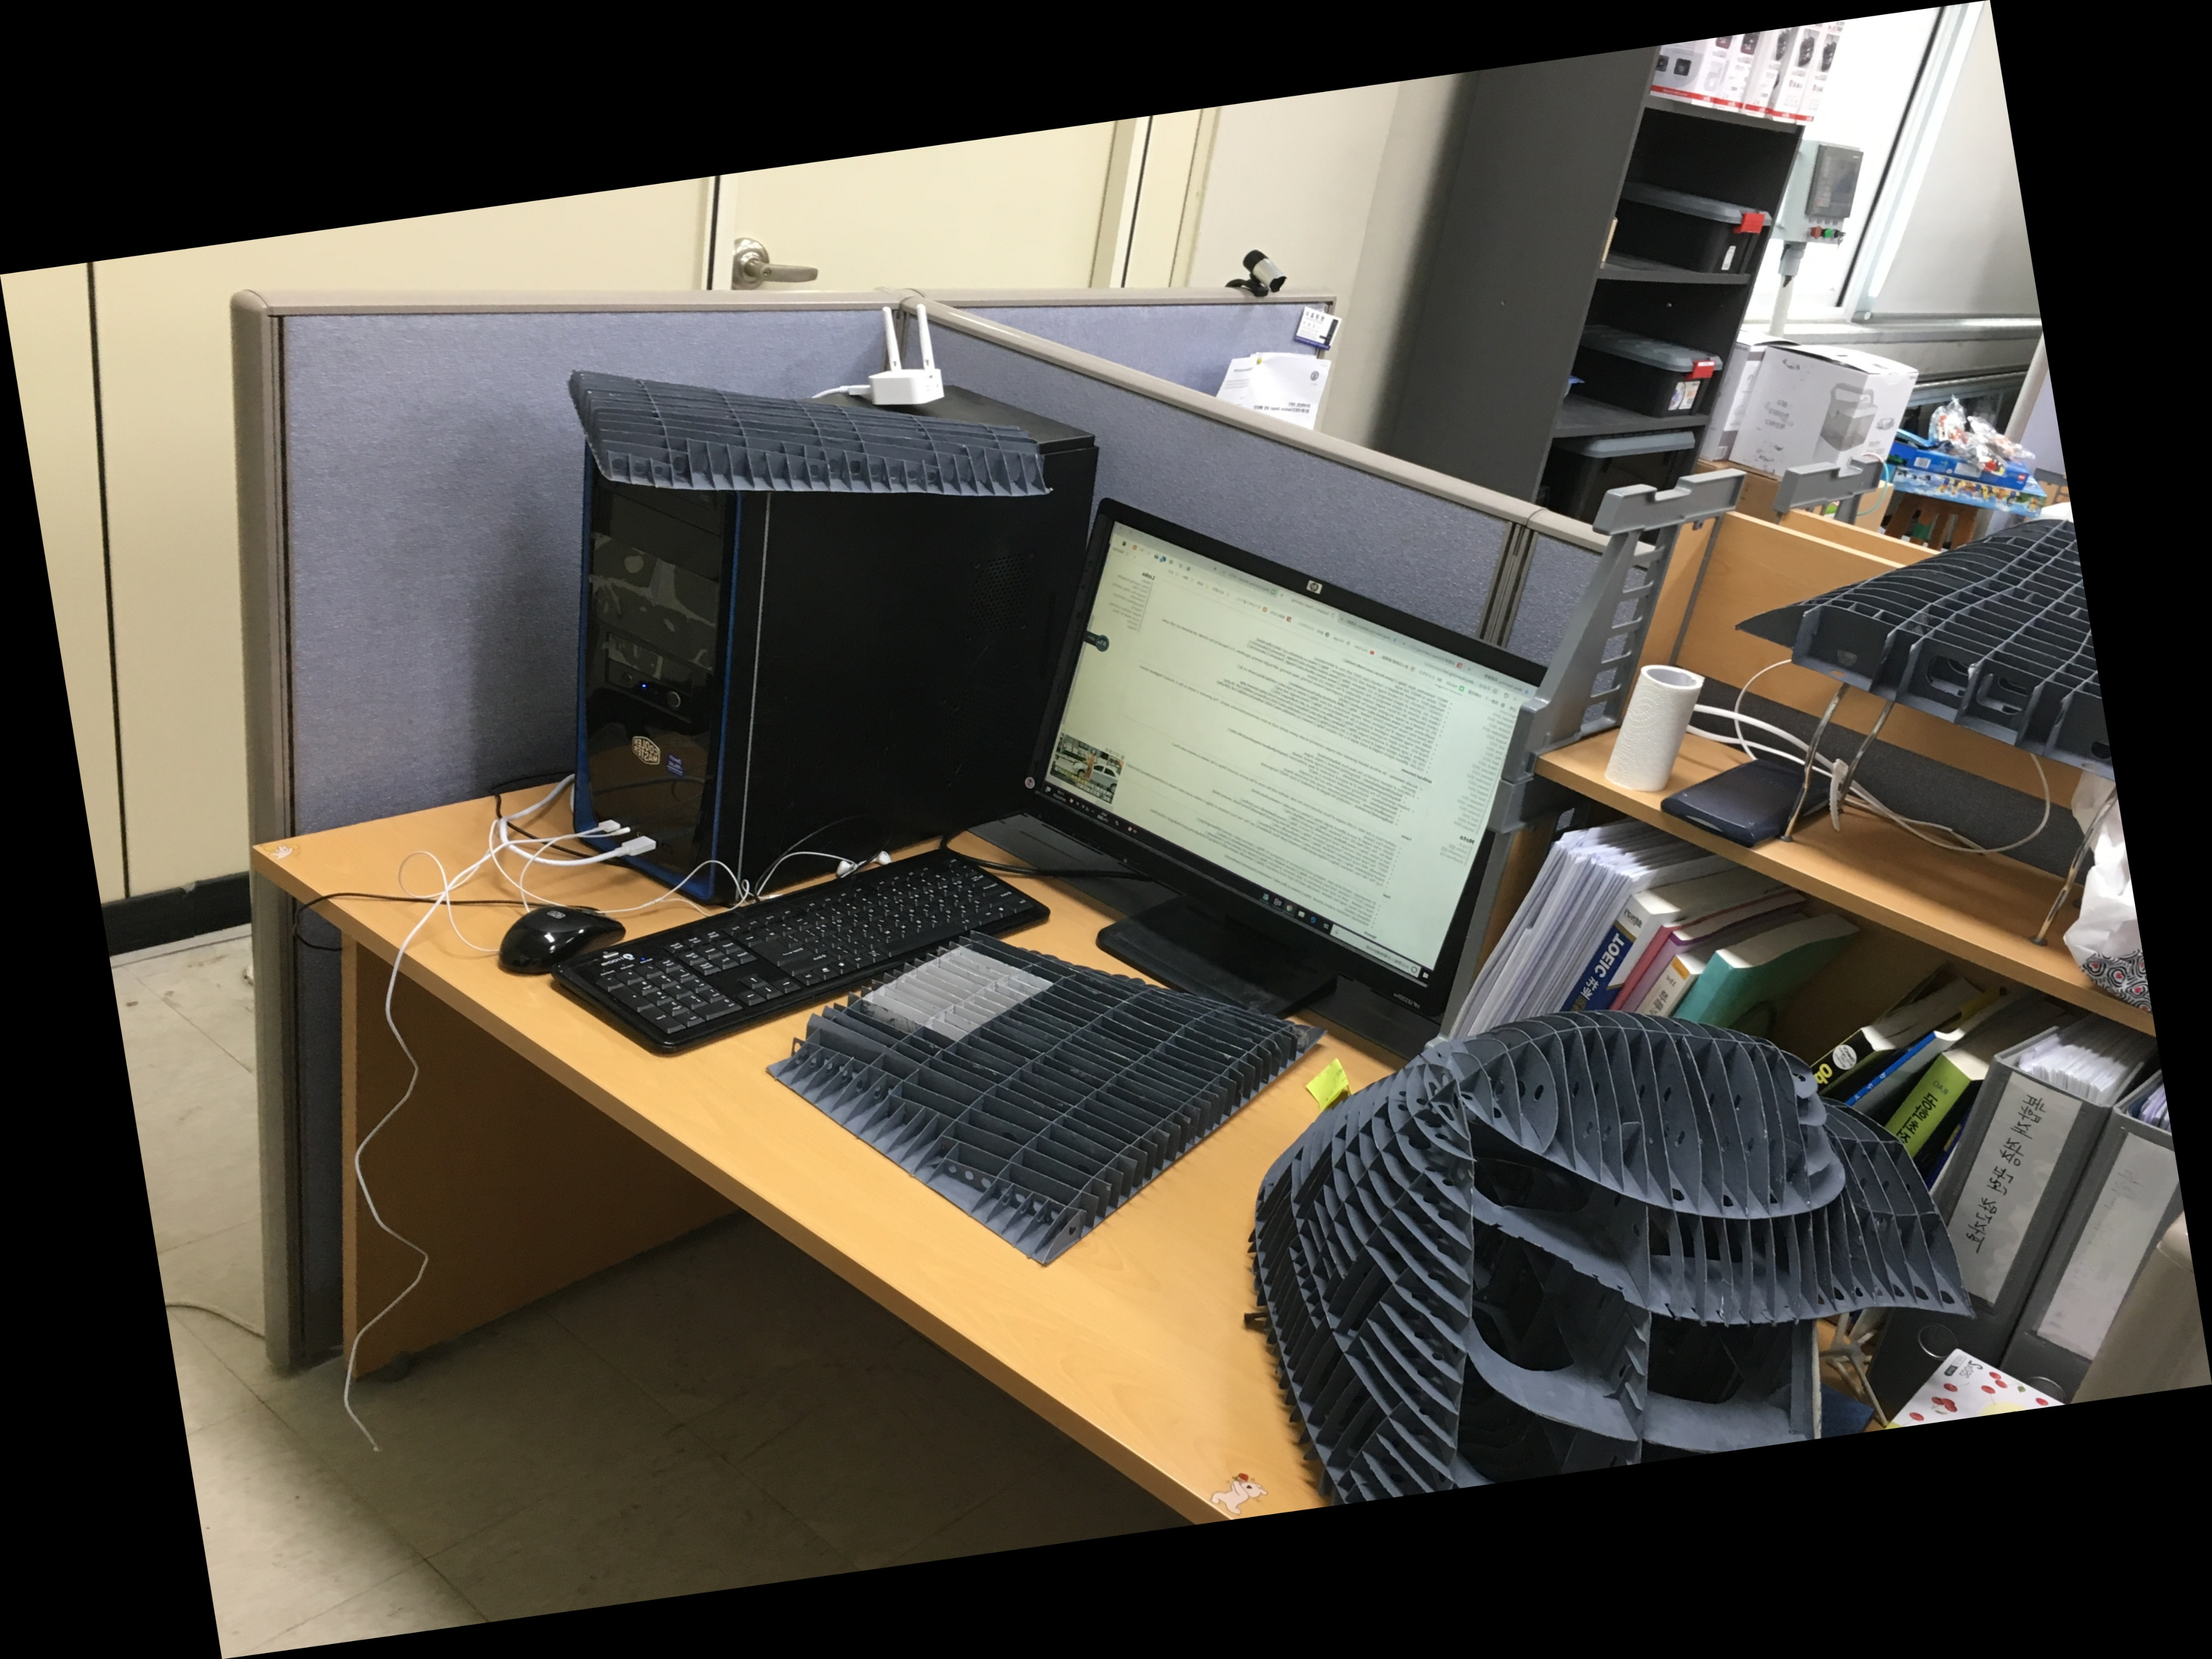A: (1703, 491, 2127, 896)
B: (529, 270, 1111, 605)
C: (723, 857, 1372, 1345)
D: (1150, 911, 2003, 1520)
